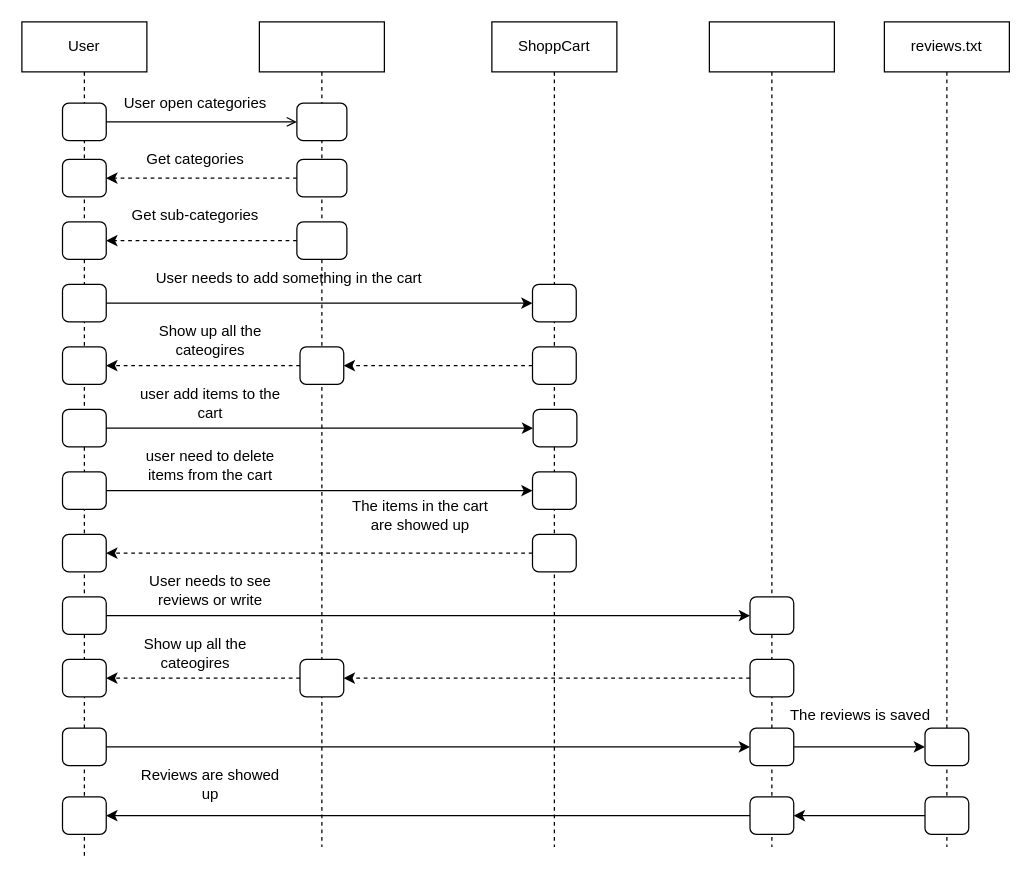
Image size: 1031x881. Some labels were removed from this diagram. Here are the shapes that lost their labels. From the top down, the box of each, then its label:
(258, 21, 384, 847): ShowCategories
(708, 21, 834, 847): Reviews
